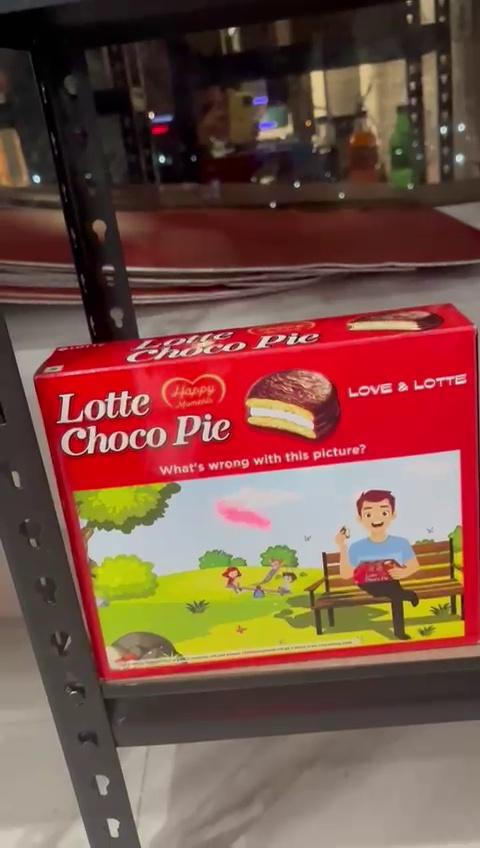Lotte Chocopie: (43, 340, 480, 674)
